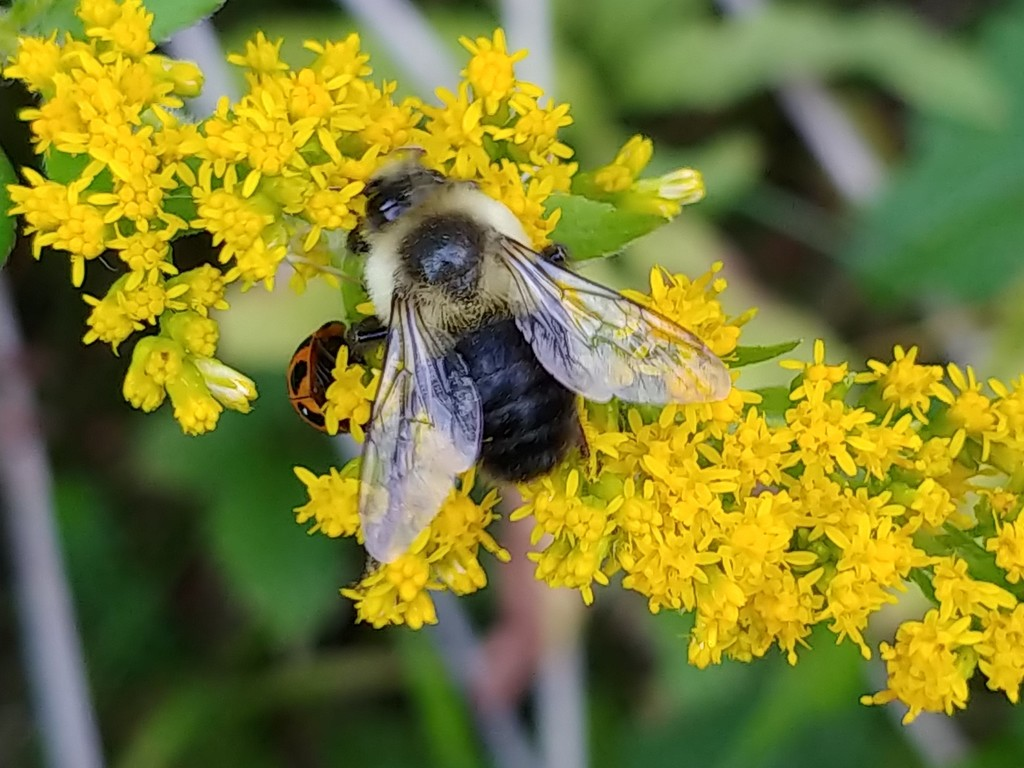bumblebee: (349, 166, 734, 566)
